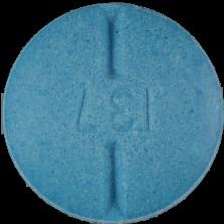43353-336: (0, 0, 224, 224)
